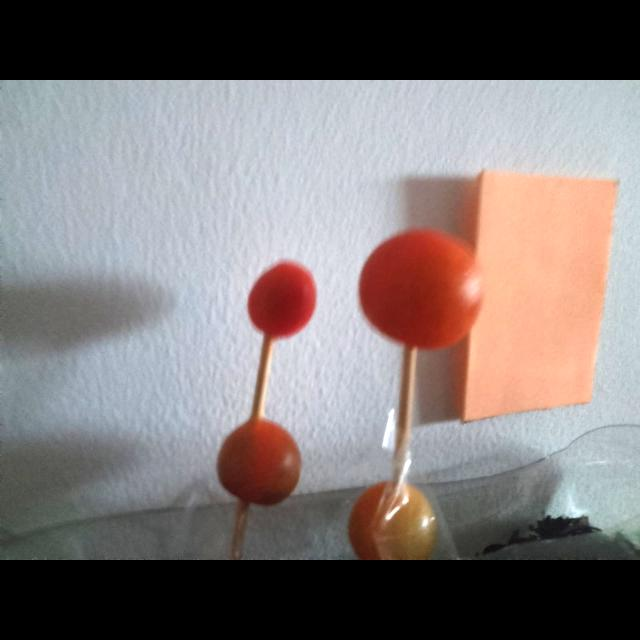card: (459, 170, 616, 421)
fruit_maturation: (348, 482, 437, 560)
fully_grown: (359, 230, 482, 349), (217, 419, 301, 505), (248, 261, 315, 338)
